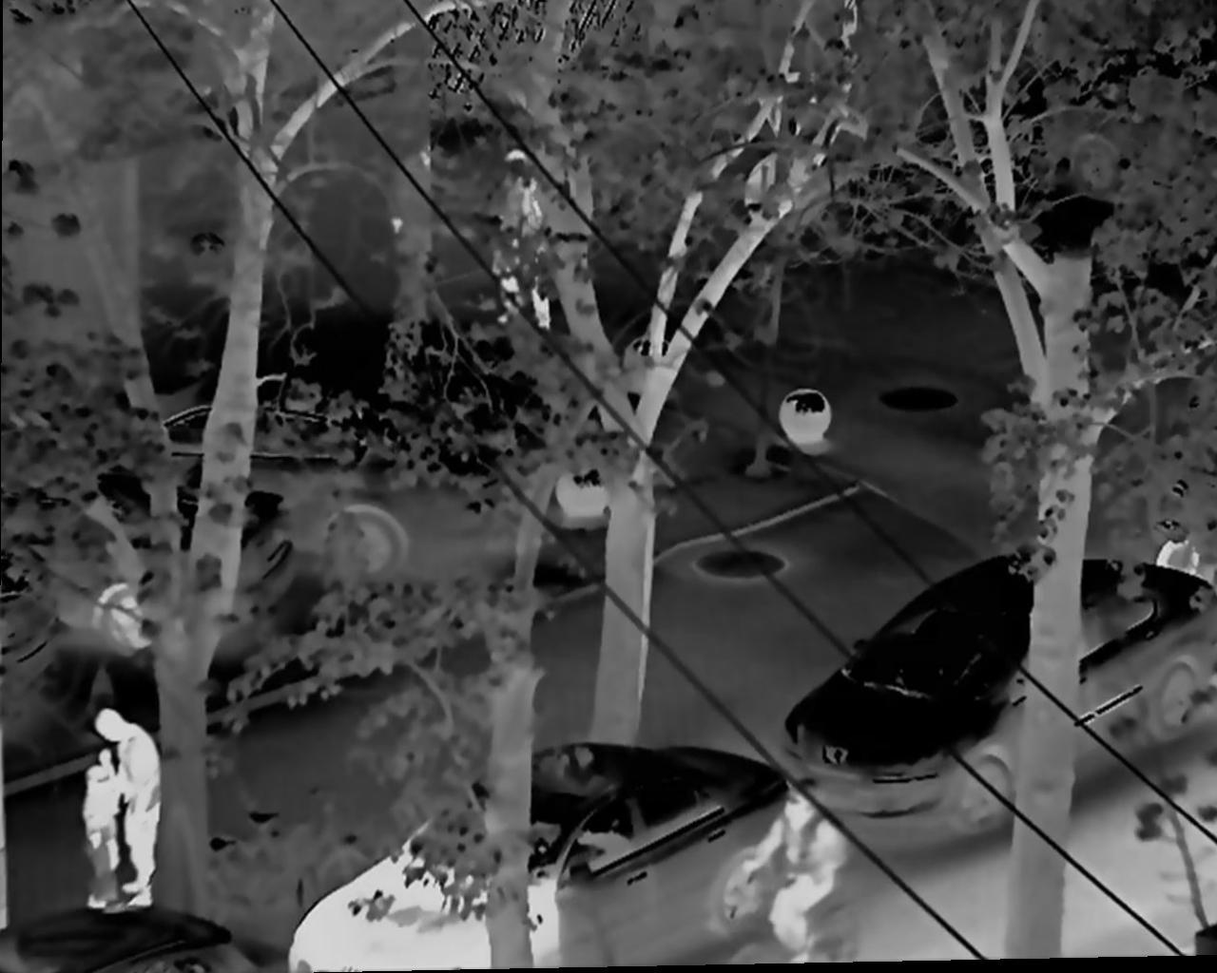person: (734, 771, 841, 957), (93, 695, 167, 915), (477, 152, 565, 333), (76, 748, 126, 908)
